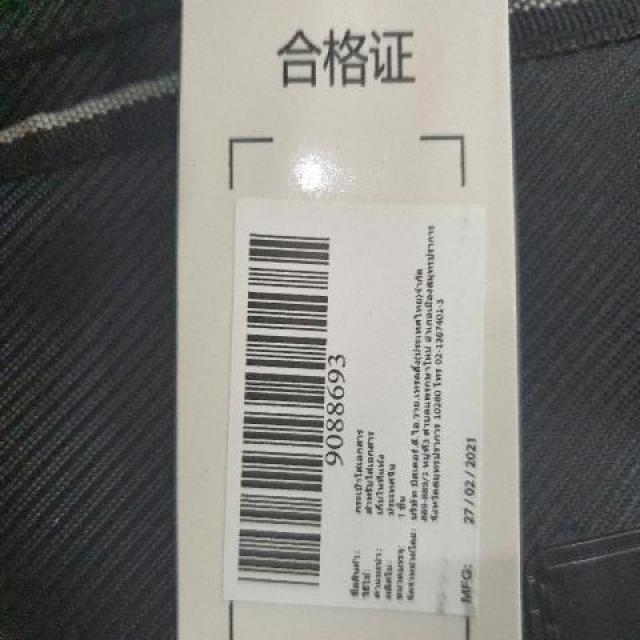Barcode: (230, 220, 350, 599)
